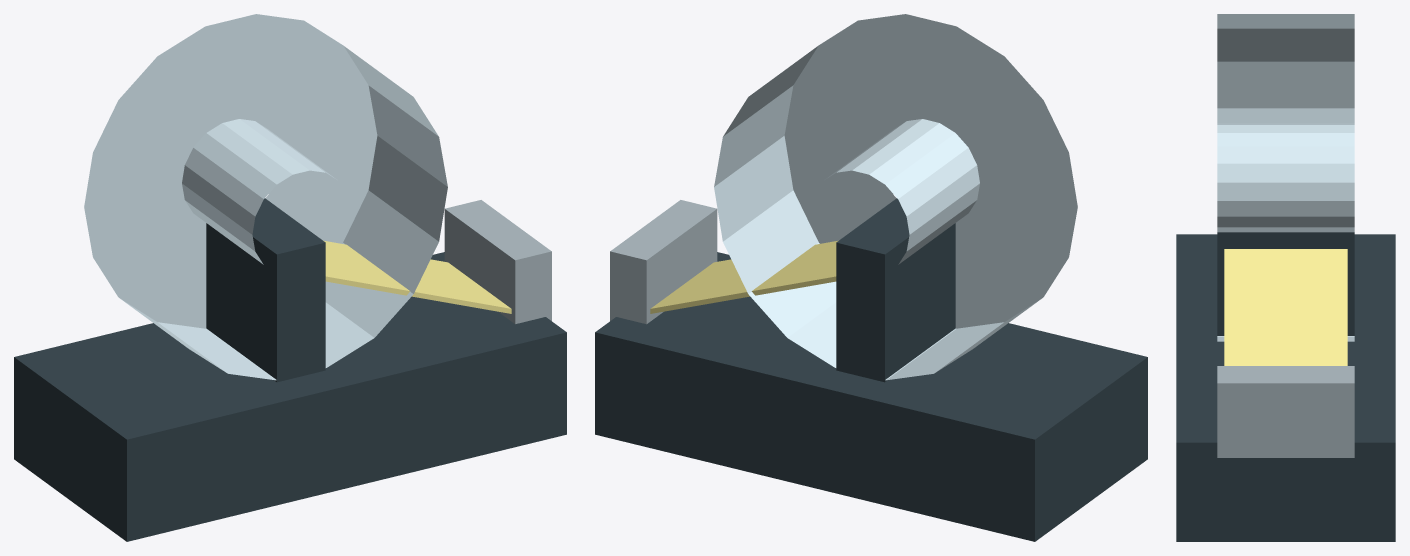
File: tejp.glb
The picture shows the model from 3 angles, left to right: view 1: azimuth 30°, elevation 25°; view 2: azimuth 150°, elevation 25°; view 3: azimuth 270°, elevation 25°; orthographic projection. The views are drawn at different scales.
Visible parts, largest first — view 1: tejp; view 2: tejp; view 3: tejp.
Part boxes in pixels (x1,y1,x2,y2): tejp: (14,14,566,541); tejp: (595,14,1147,541); tejp: (1176,14,1395,541).
Bounding box in the file's own units: 0.365 × 0.3182 × 0.16.
